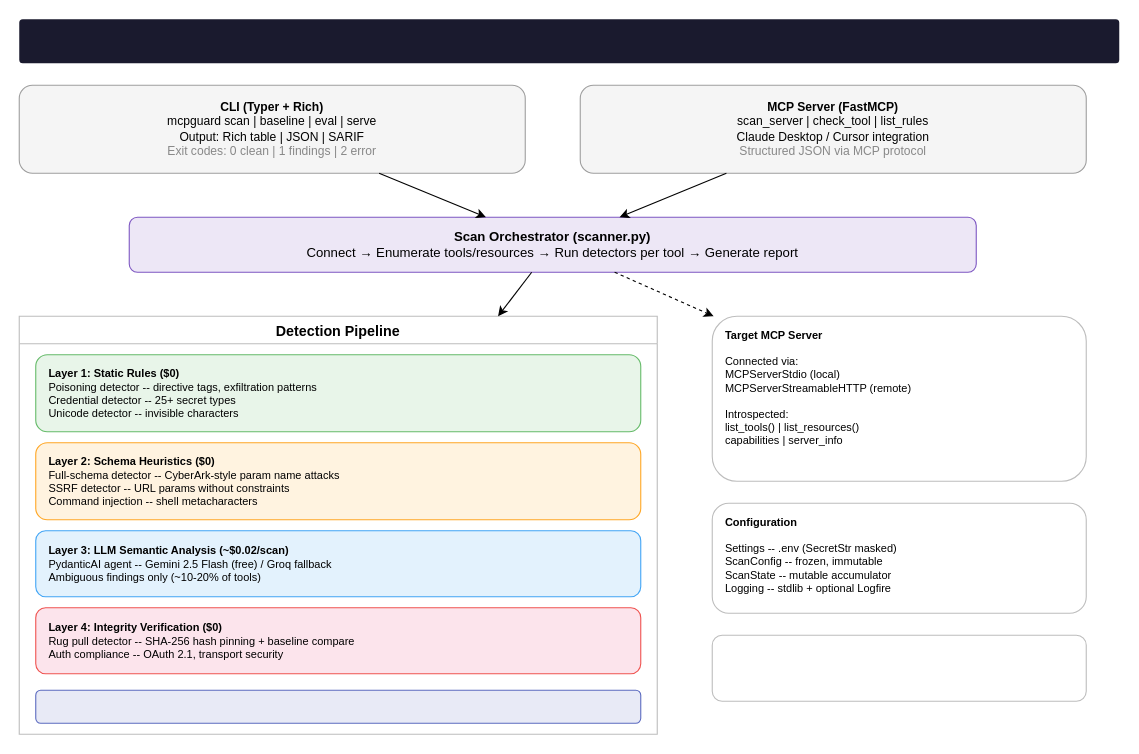
The diagram is 1139 pixels wide and 754 high, and some of its shapes have lost their labels. Each missing label, with the box of its shape:
MCPGuard Architecture -- 4-Layer Detection Pipeline: (19, 19, 1119, 63)
Observability Pydantic Logfire (OTel, 10M spans/mo free) Cost tracking per scan: (711, 634, 1086, 701)
ServerAuditReport -- findings, risk score, OWASP mapping, remediation: (35, 689, 641, 723)
